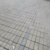zebra: (1, 5, 50, 33)
